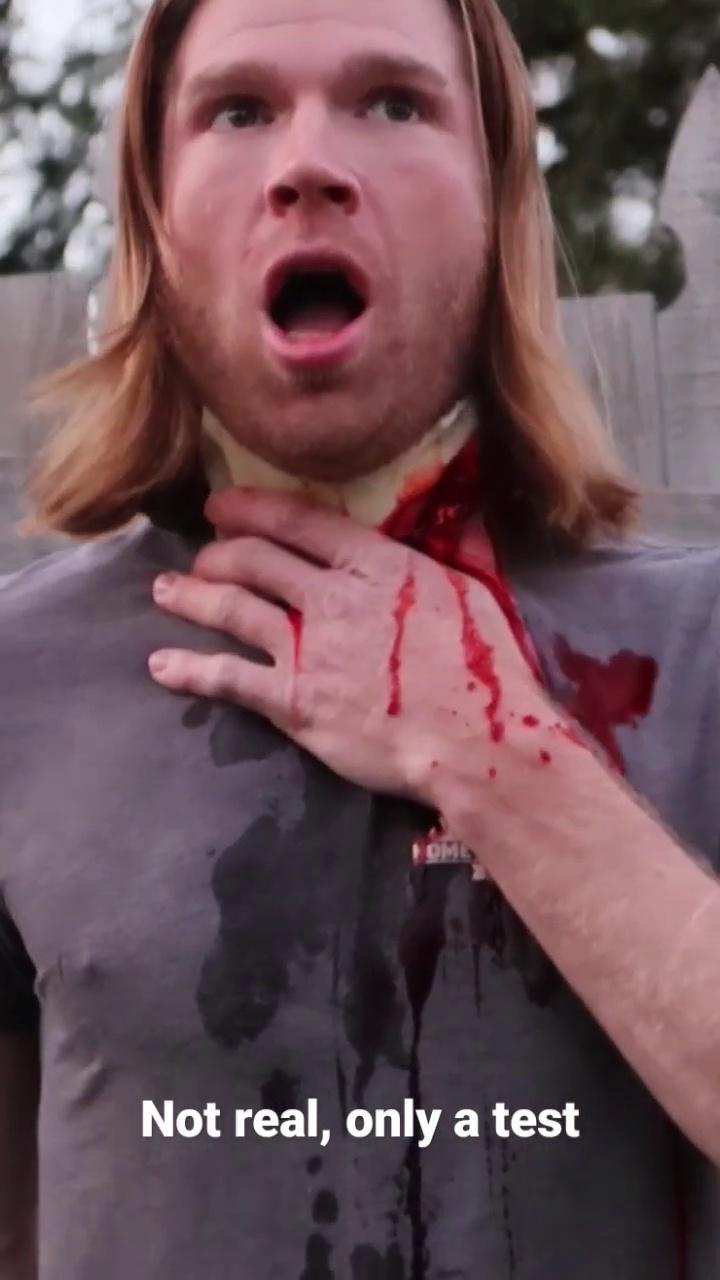Fire: (379, 437, 543, 684), (436, 565, 569, 744), (556, 637, 658, 774), (386, 568, 419, 718), (283, 604, 304, 676)
